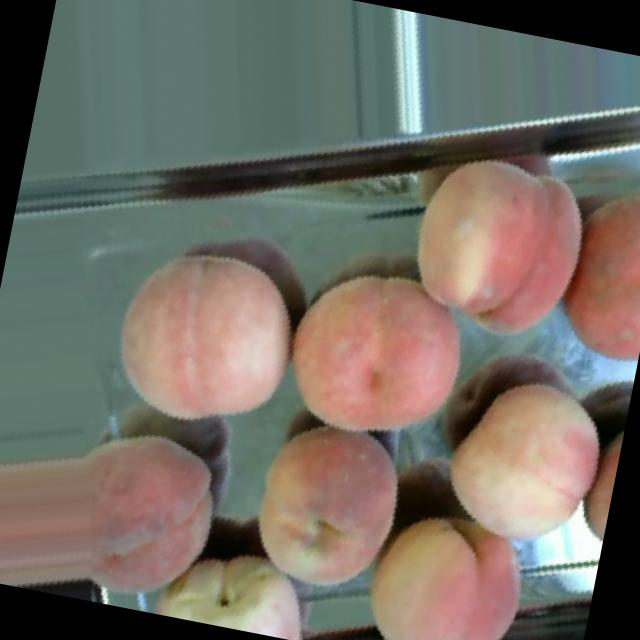Fruit: (368, 117, 615, 369), (0, 379, 251, 625), (82, 210, 325, 460), (256, 230, 505, 472), (217, 388, 443, 626), (408, 344, 626, 574), (331, 482, 563, 640), (549, 157, 640, 385)
